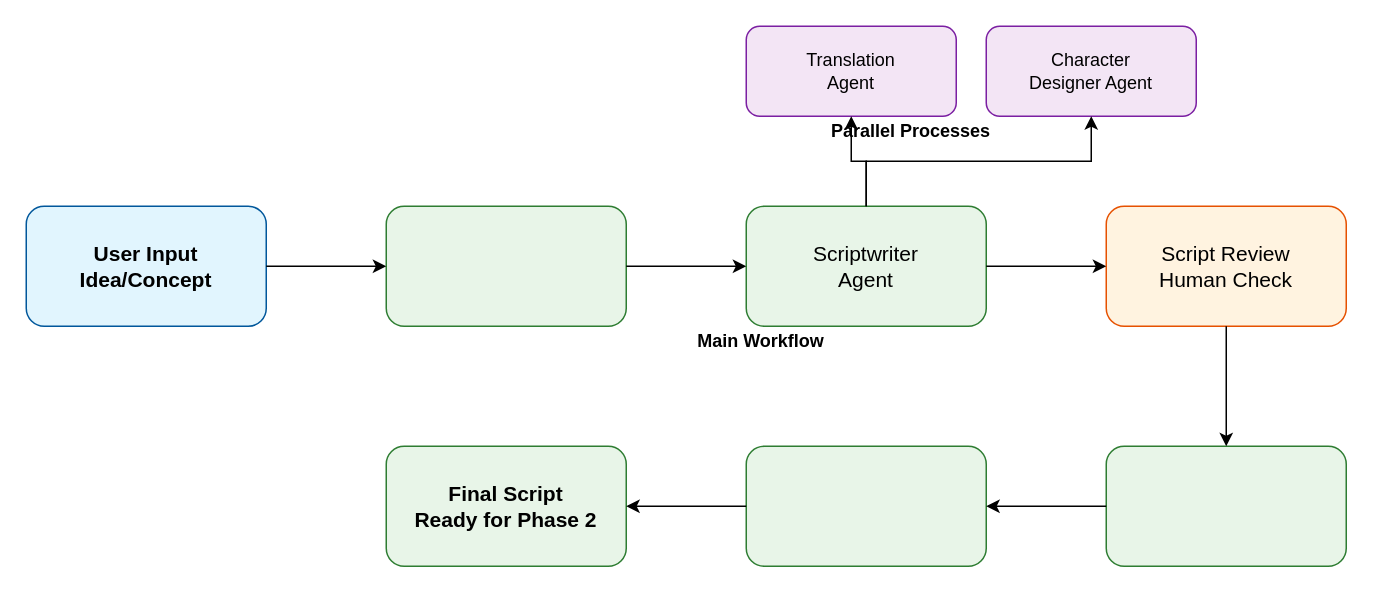
This 1373x593 diagram has some shape labels left out. Each missing label, with the centre of its shape:
Censor Agent: pixel 1225 505
Continuity Editor: pixel 865 505
Market Research Agent: pixel 505 265
